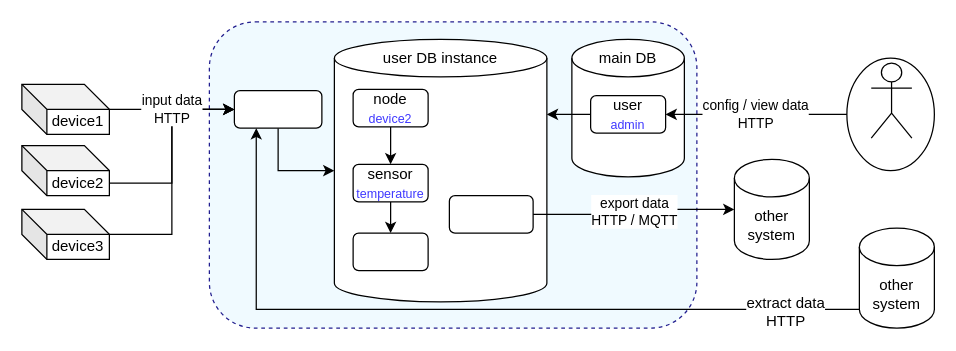
Image size: 956x351. Some labels were removed from this diagram. Here are the shapes that lost their labels. From the top down, the centre of each, then its label:
point (277, 108): token authentication
point (891, 100): user
point (490, 213): export configuration
point (390, 251): reading 24°C
